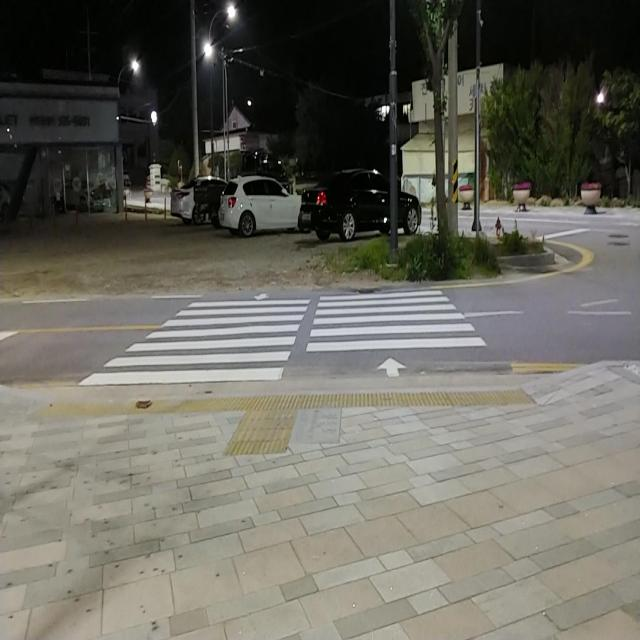횡단보도: (76, 287, 490, 388)
